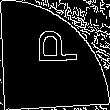P_W: (30, 36, 80, 74)
